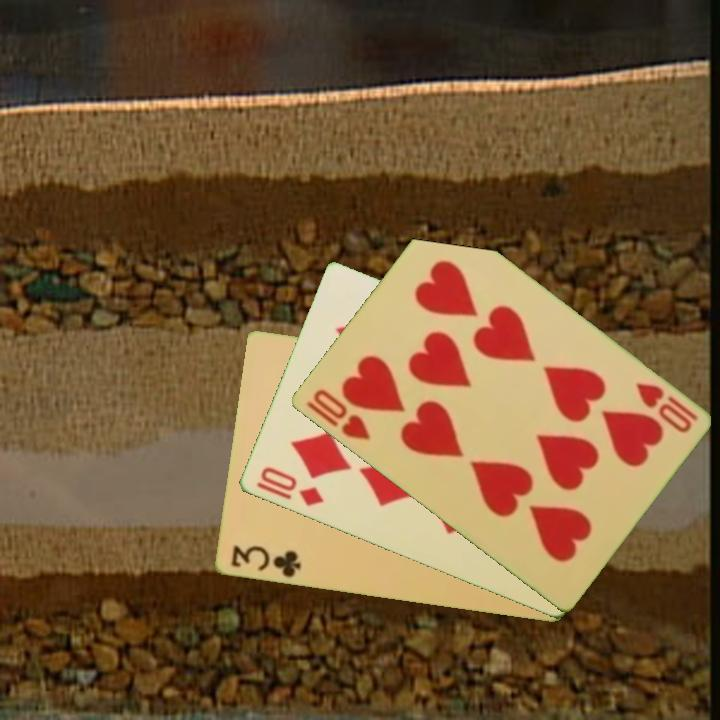10d: (252, 463, 326, 510)
10h: (302, 385, 373, 444), (631, 379, 701, 437)
3c: (227, 542, 304, 581)
